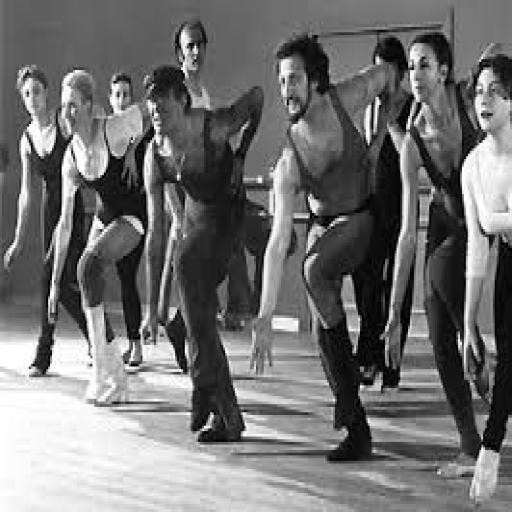dancing: (246, 30, 410, 466)
